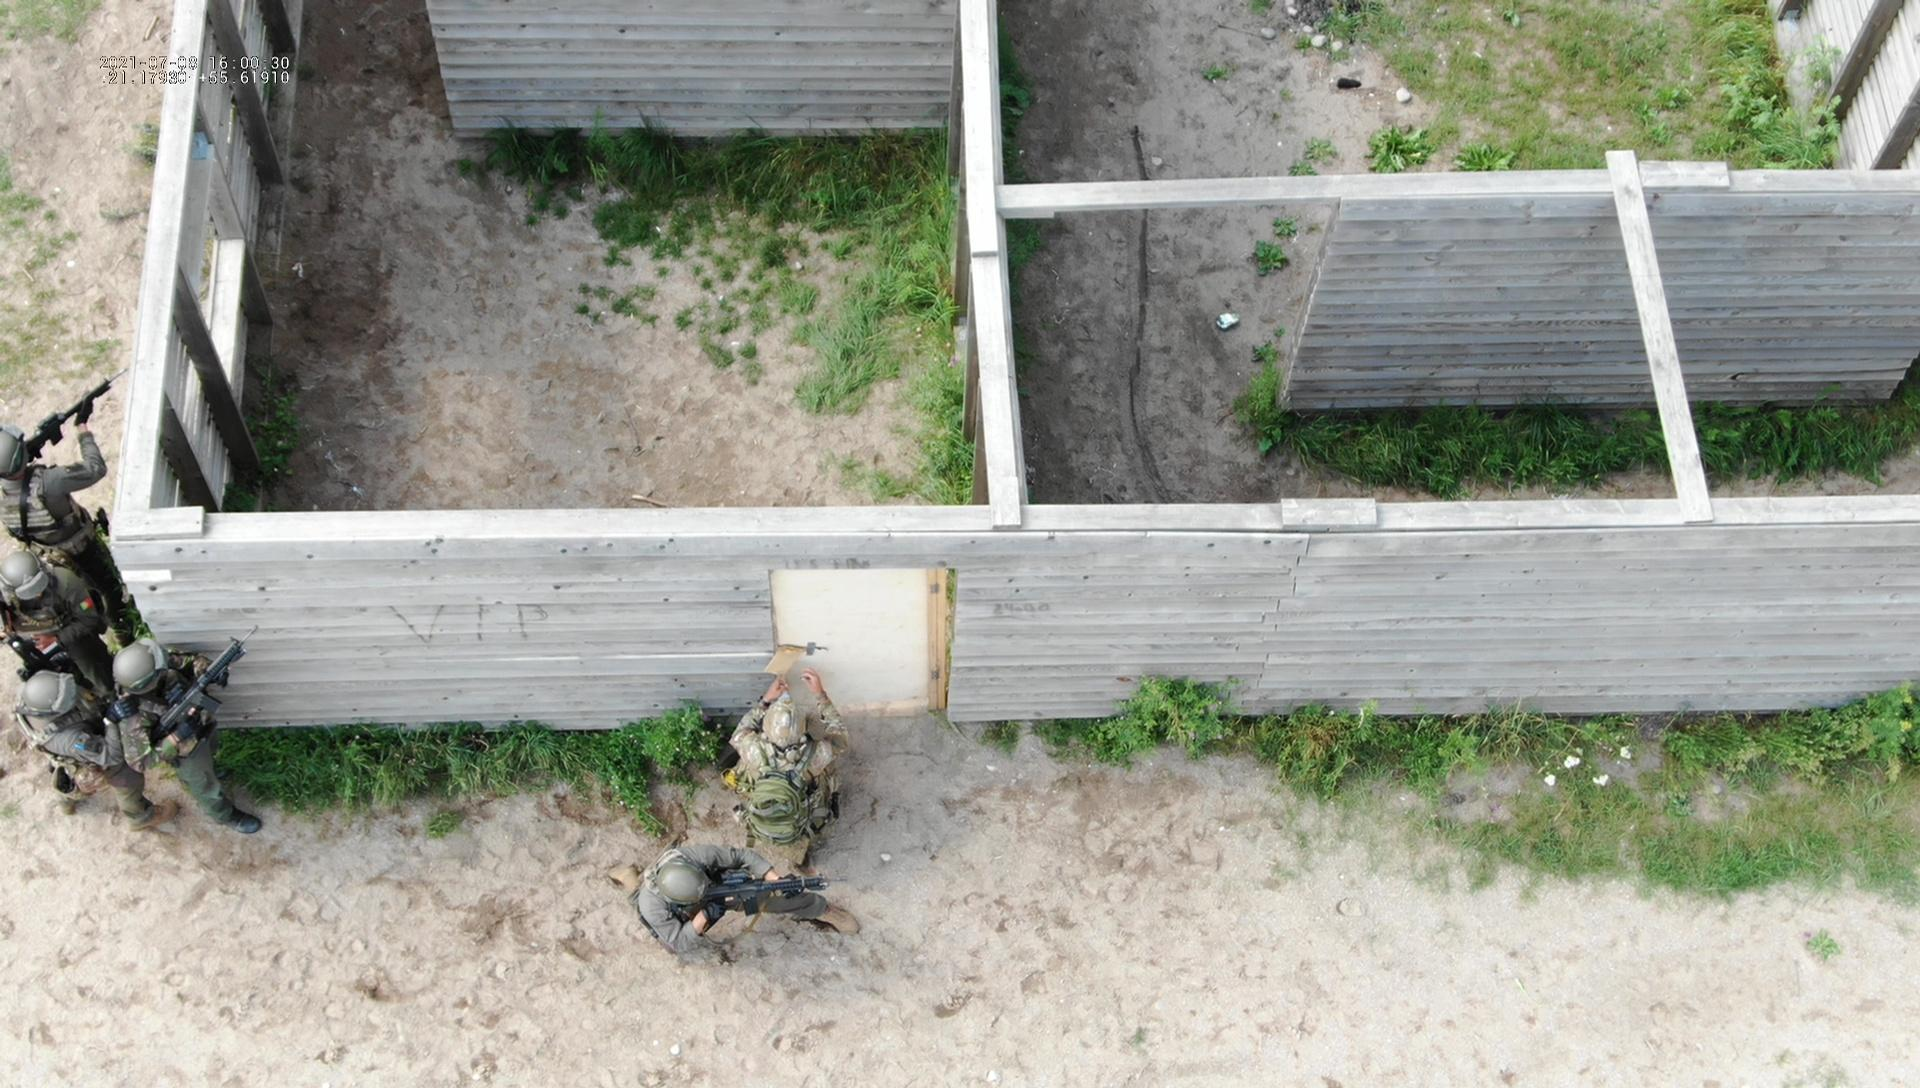Soldier: (641, 804, 885, 1005), (135, 607, 309, 857), (0, 334, 127, 596), (22, 649, 171, 855), (727, 702, 880, 866), (0, 555, 140, 680)
